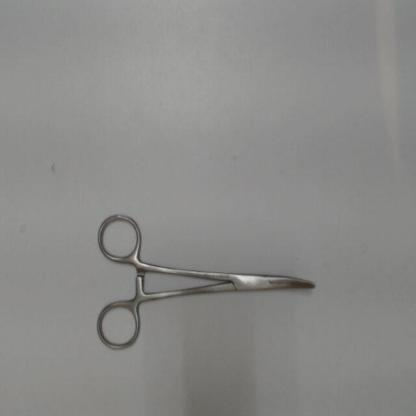Crile Artery Forceps: (94, 204, 324, 352)
